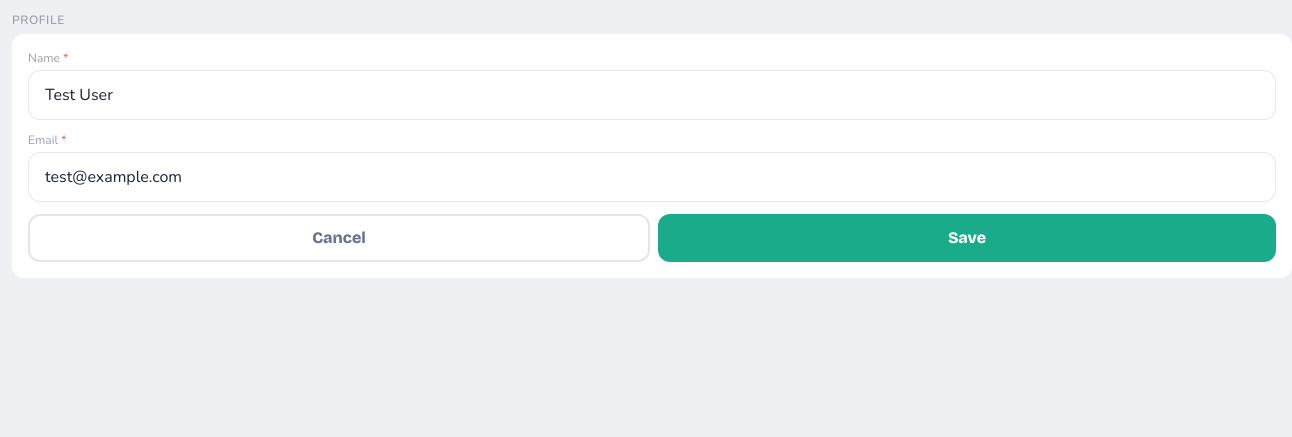
Scenario: ProfileSection › disables save when email is invalid
Replace the text in the field showing "test@example.com" with "not-an-email": (652,177) [28,152,1276,202]
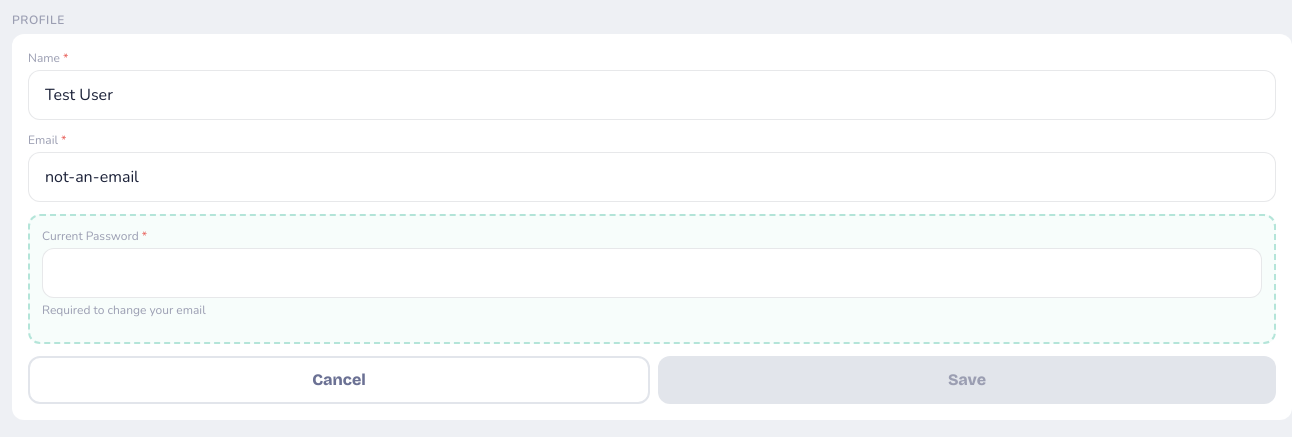
expect the button "Save" is disabled: met, box [658,356,1276,404]
